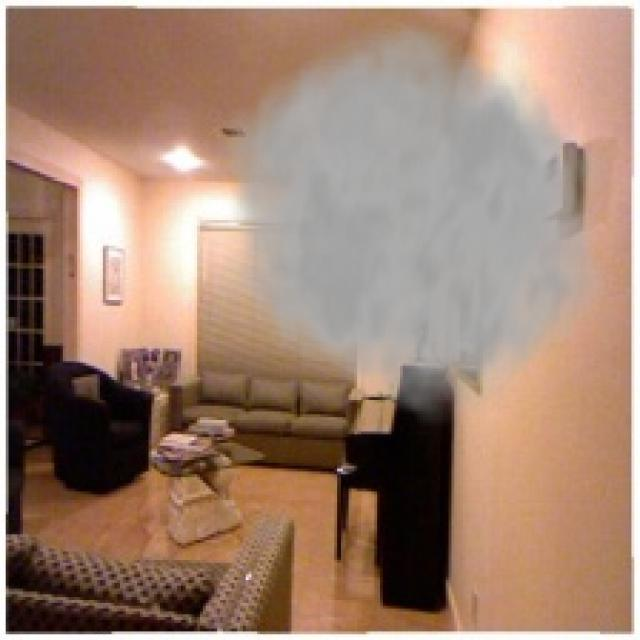Smoke: (208, 8, 608, 434)
